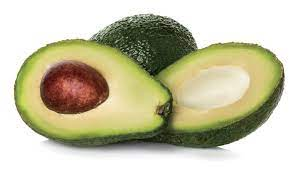avocado: (14, 39, 172, 146), (143, 40, 284, 147)
